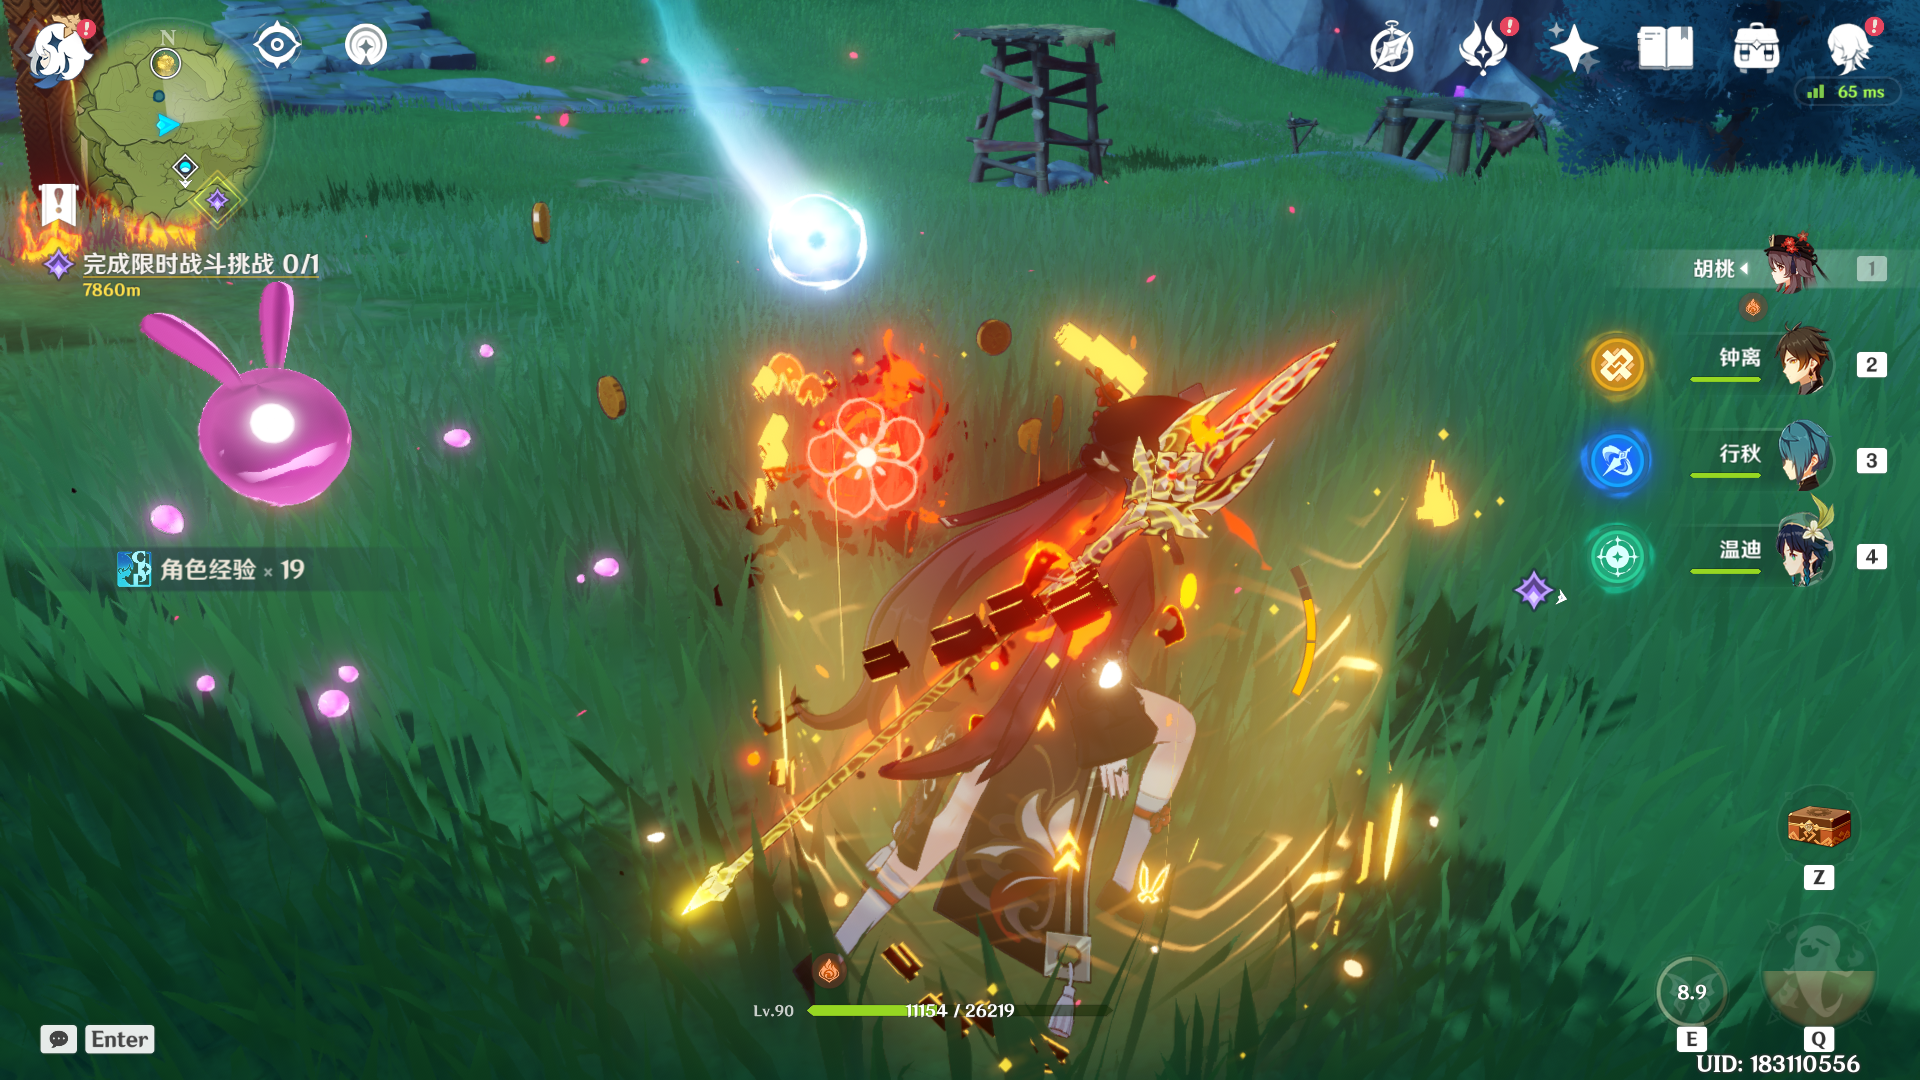character: (775, 324, 1302, 1006)
